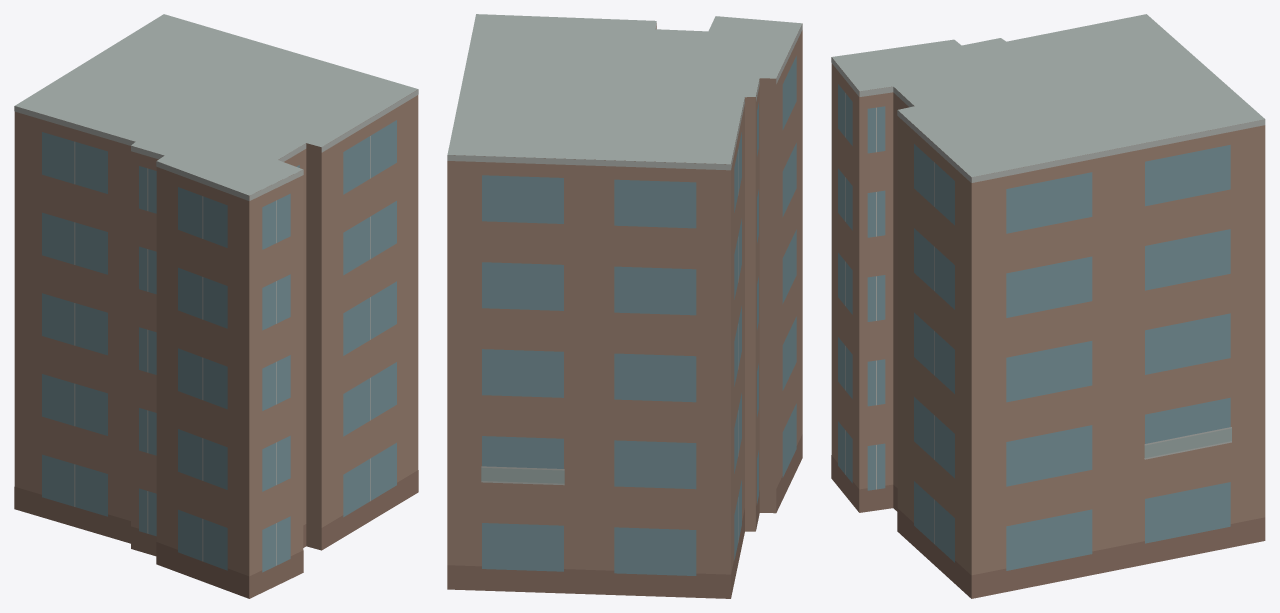
Rendered from survey-upis-32935272.glb.
The picture shows the model from 3 angles, left to right: view 1: azimuth 30°, elevation 25°; view 2: azimuth 150°, elevation 25°; view 3: azimuth 270°, elevation 25°; orthographic projection. The views are drawn at different scales.
Visible parts, largest first — view 1: survey-upis-32935272.tmp; view 2: survey-upis-32935272.tmp; view 3: survey-upis-32935272.tmp.
Boxes of the visible parts, x1=… form: survey-upis-32935272.tmp: x1=14, y1=14, x2=418, y2=598; survey-upis-32935272.tmp: x1=447, y1=14, x2=802, y2=598; survey-upis-32935272.tmp: x1=831, y1=14, x2=1265, y2=598.
Size of the model in its own units: 14.61 by 17.58 by 16.4.
